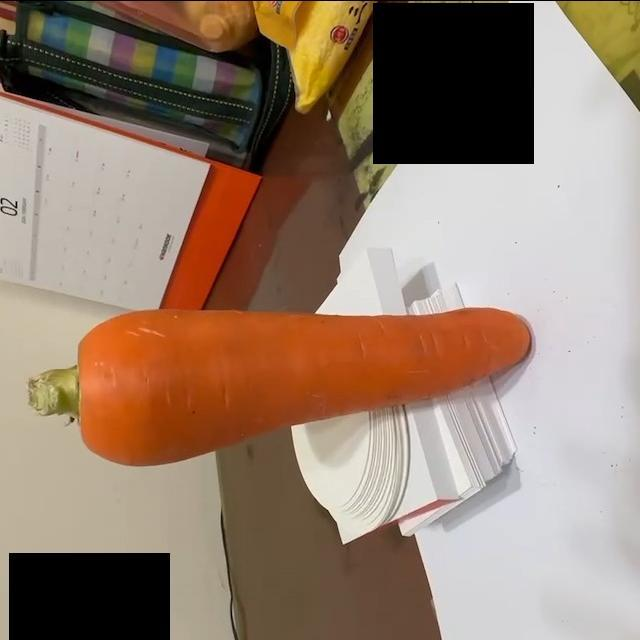carrot: (29, 307, 535, 469)
